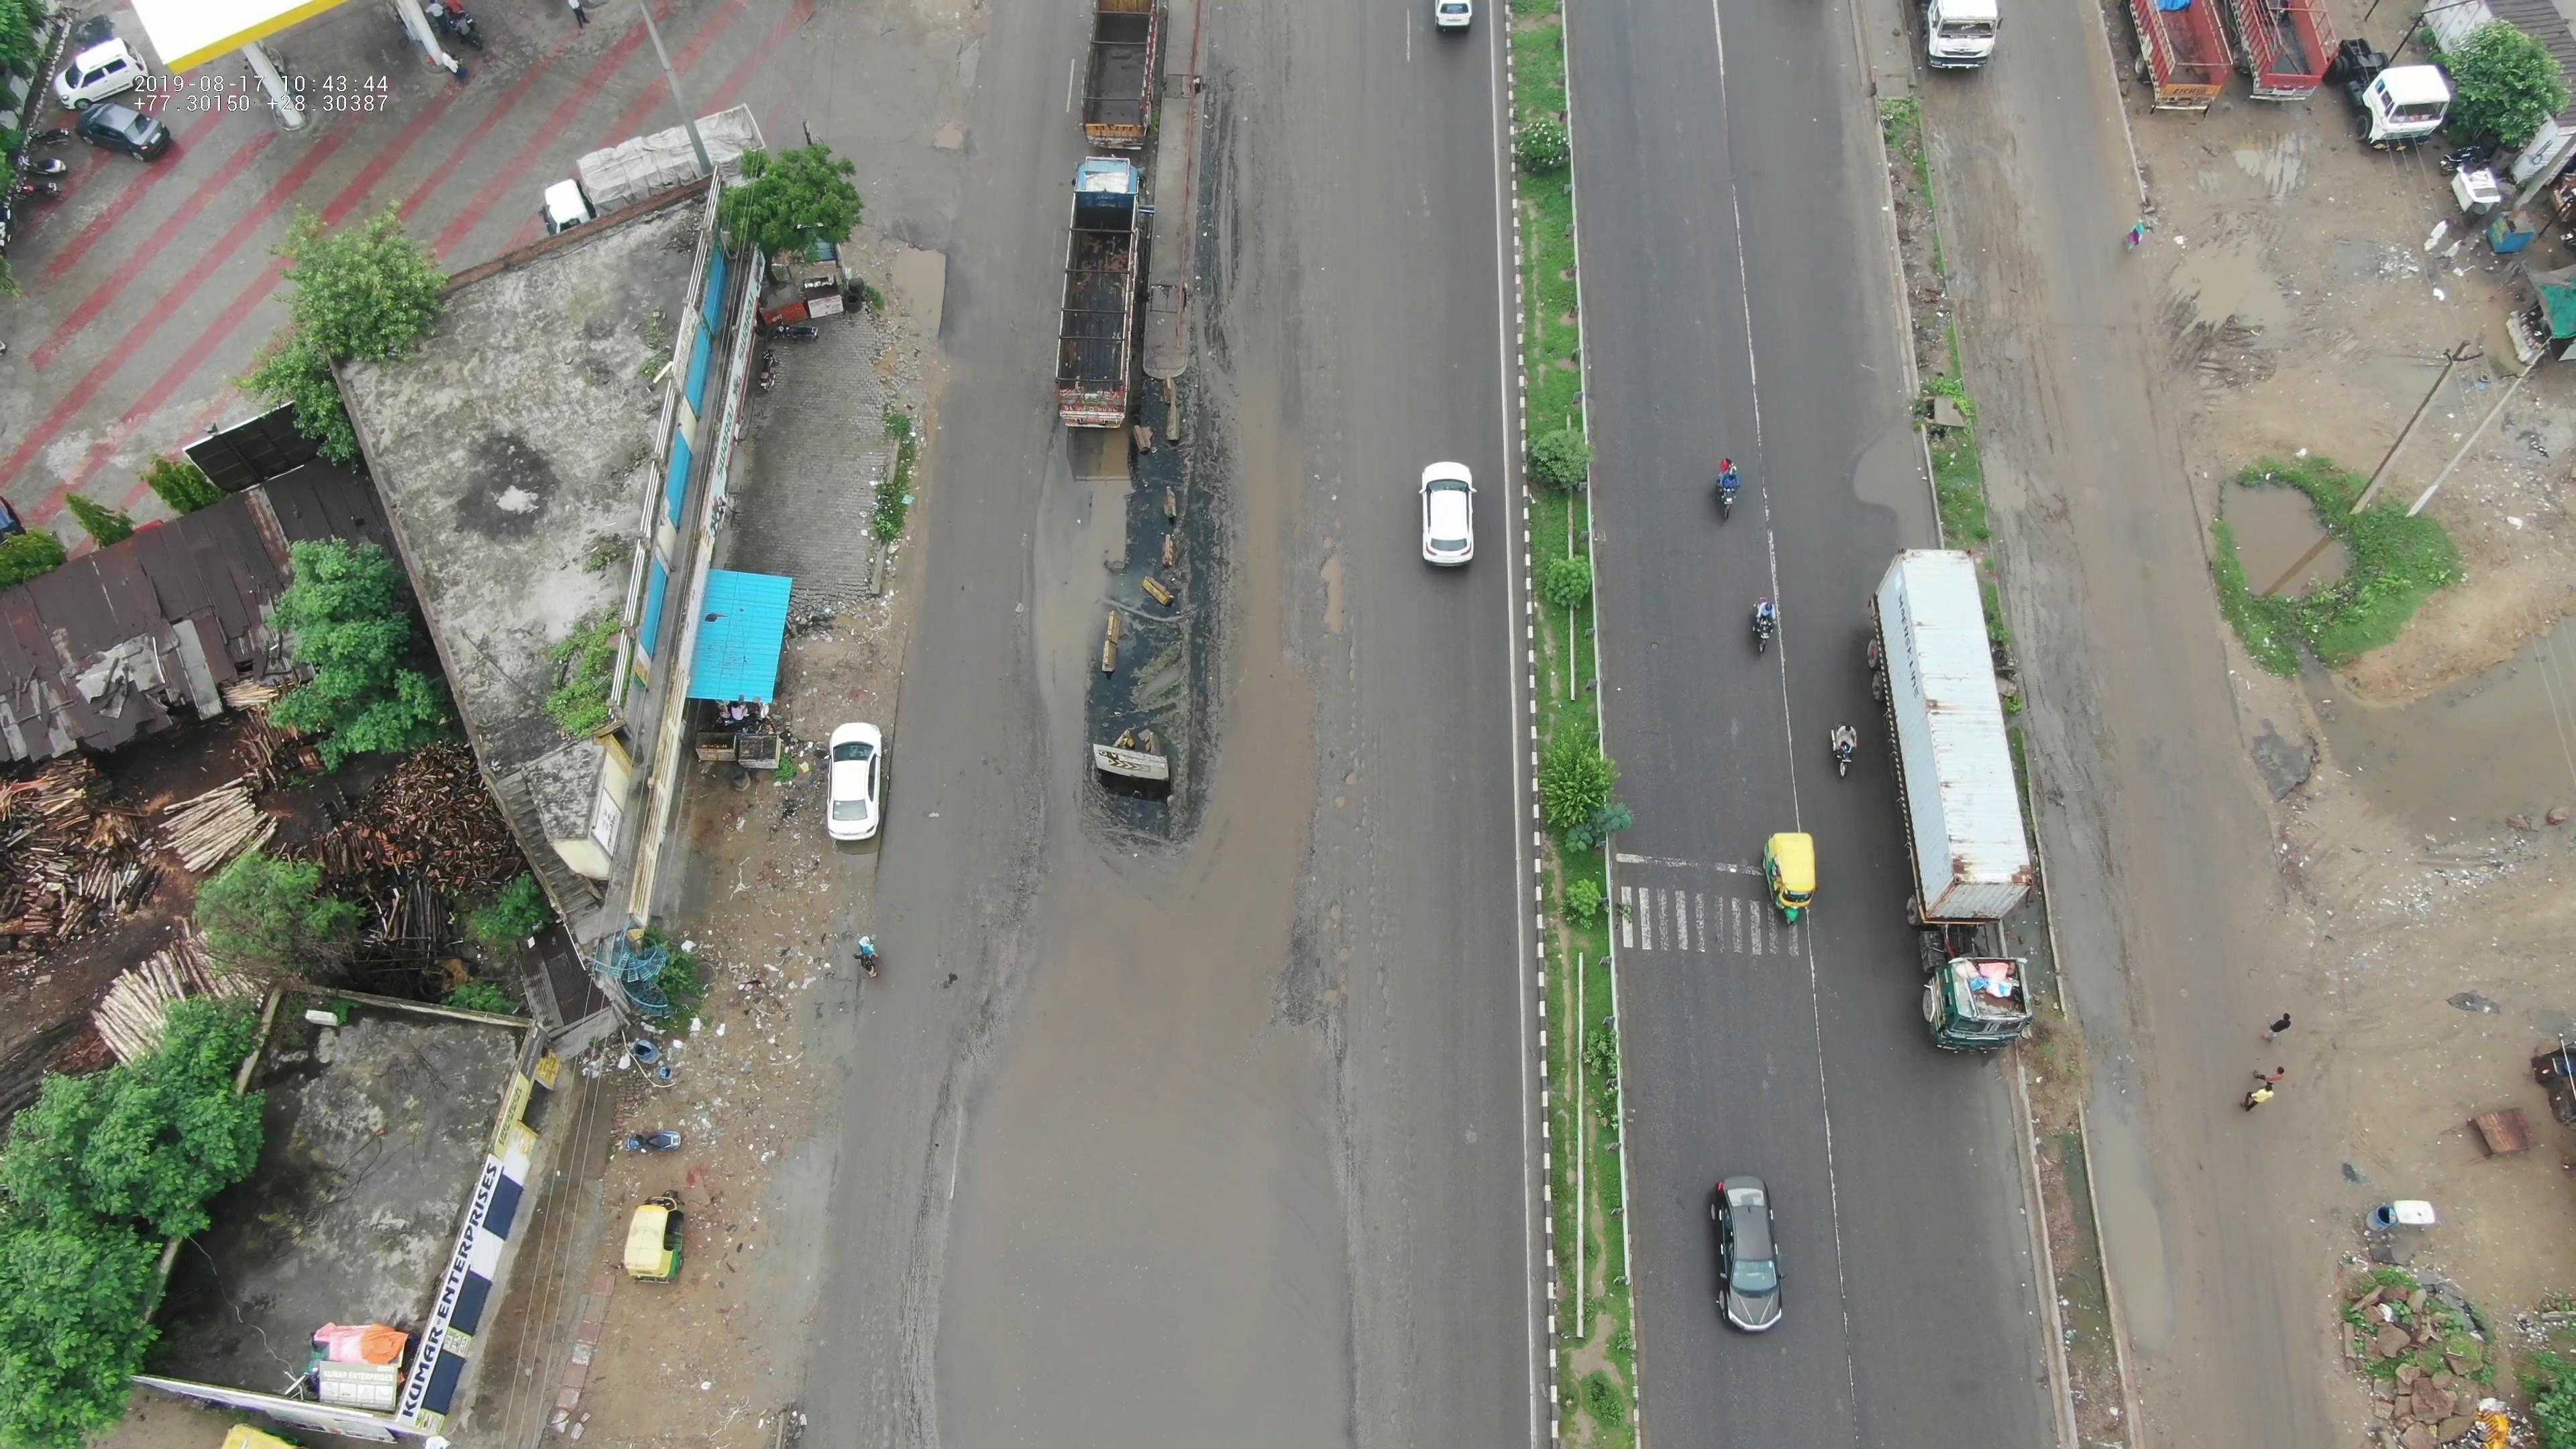Potholes: (1322, 655, 1414, 1065), (1299, 364, 1355, 649), (1376, 1138, 1419, 1421), (842, 1235, 897, 1430), (950, 832, 1008, 947), (922, 108, 982, 173), (1399, 165, 1449, 228)
Waterlogging: (924, 708, 1369, 1433), (1817, 396, 1927, 563)
